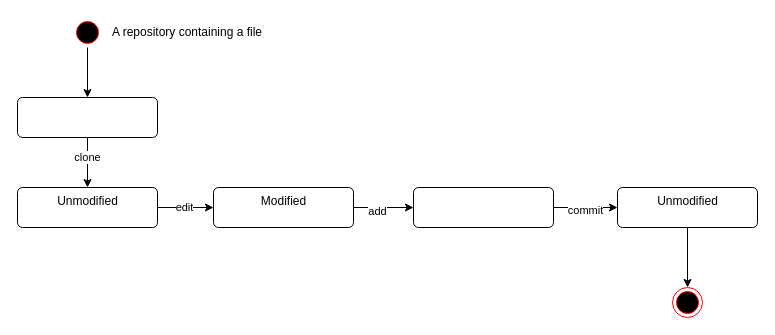
The diagram is 775 pixels wide and 335 high, and some of its shapes have lost their labels. Here are the shapes that lost their labels. From the top down, the box of each, then its label:
(16, 96, 158, 138): Tracked
(412, 186, 554, 228): Staged
